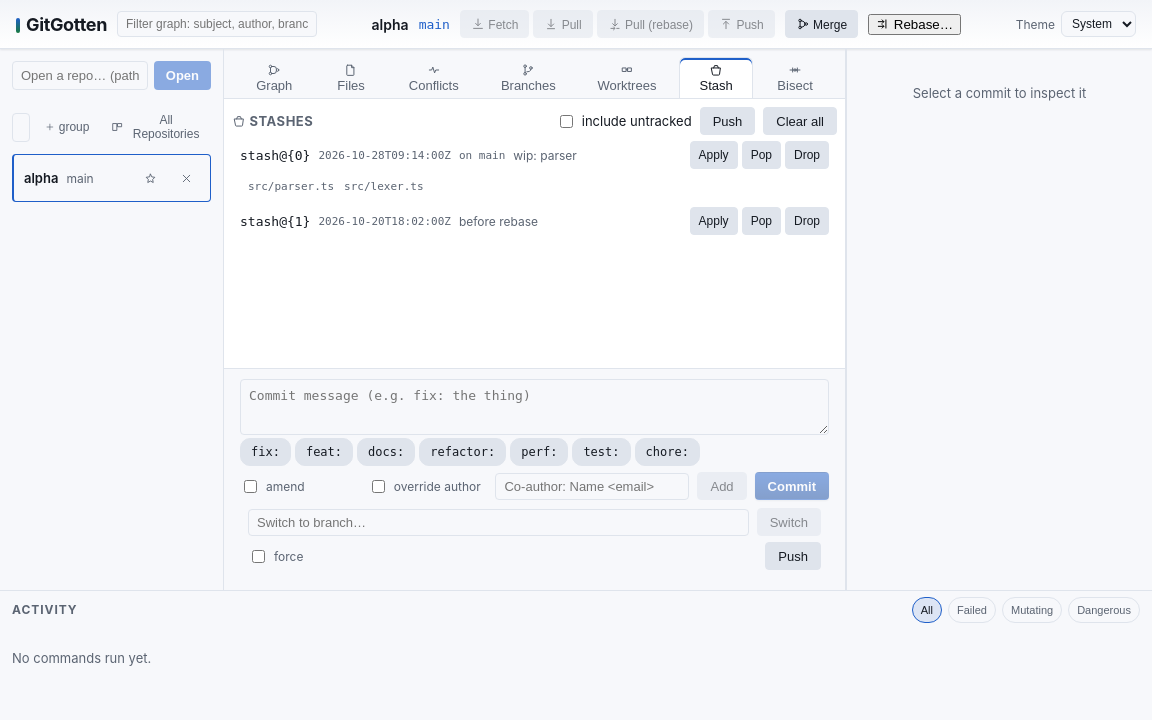
a rejected run_op leaves the stash list untouched and records nothing
Click the button "Clear all". click: [800, 121]
box: [763,107,837,135]
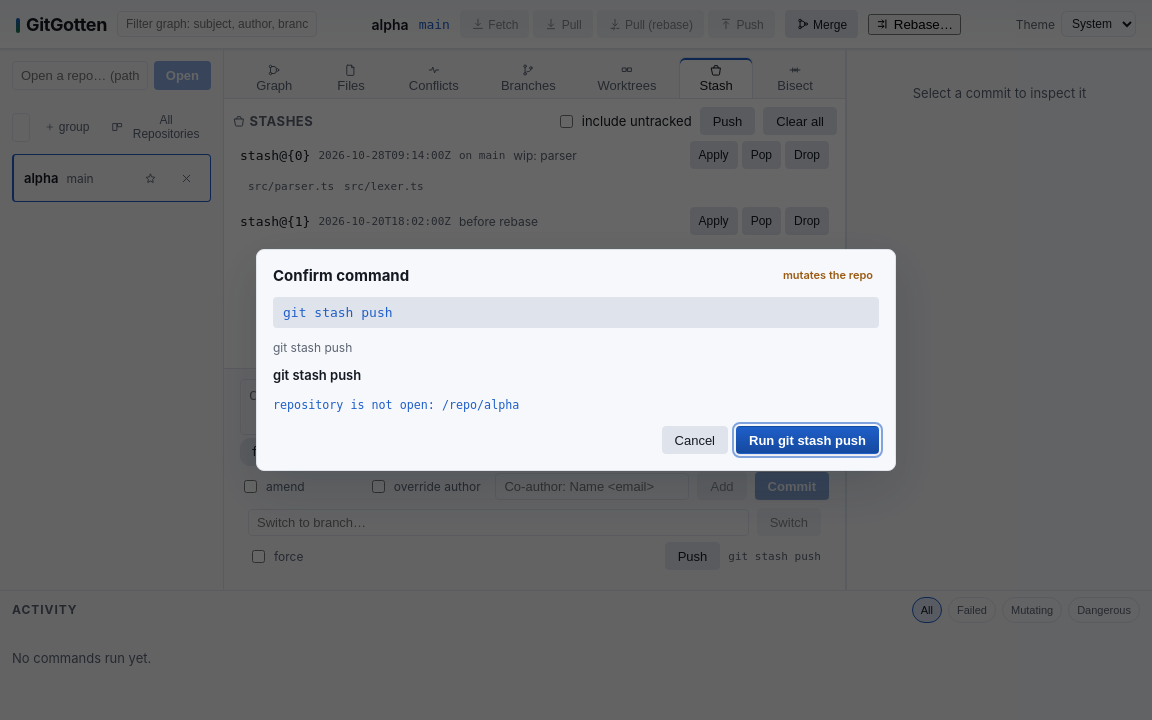
Result: the text "repository is not open: /repo/alpha" is shown at [273,398,519,412]
